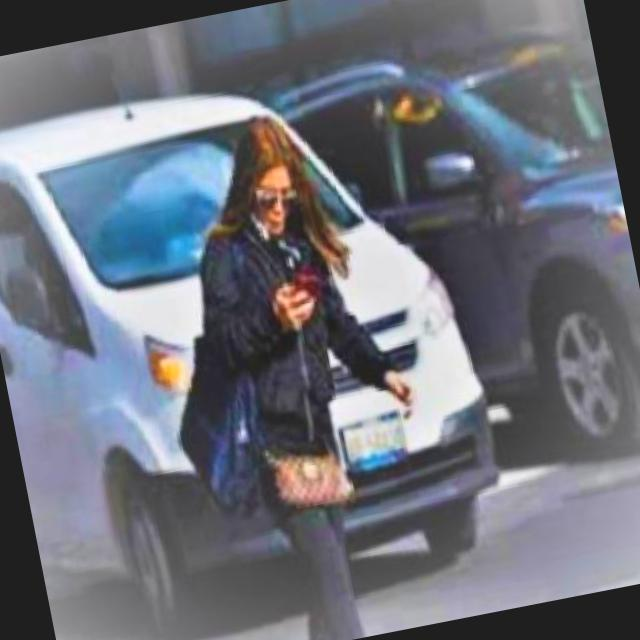Person: (156, 89, 464, 640)
